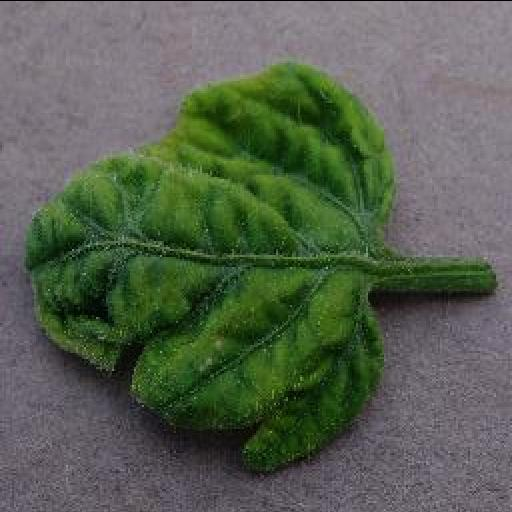disease_tomato: (24, 60, 394, 470)
